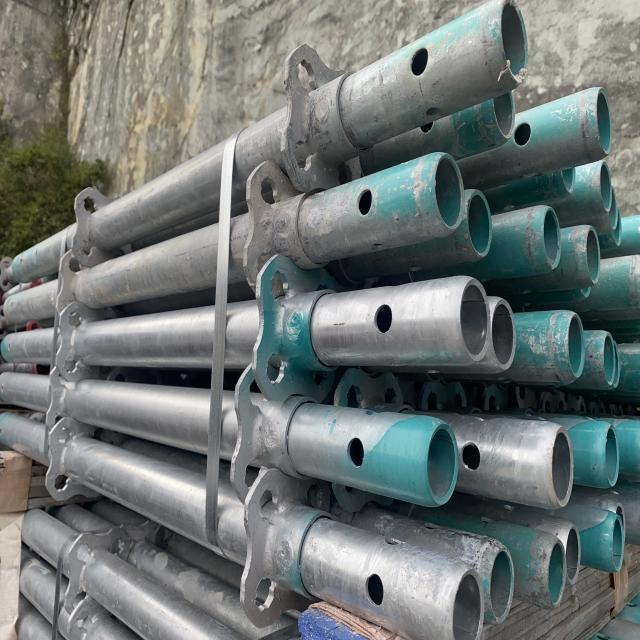pipe: (457, 274, 492, 362), (446, 564, 486, 640), (424, 420, 459, 506), (430, 152, 466, 232), (498, 0, 530, 86), (486, 542, 516, 626), (549, 424, 576, 509), (490, 298, 518, 372), (465, 186, 493, 258), (489, 76, 517, 142), (565, 310, 588, 382), (592, 86, 614, 157), (545, 538, 567, 609), (540, 205, 563, 272), (562, 523, 584, 589), (602, 420, 622, 490), (582, 222, 602, 288), (598, 328, 617, 389), (608, 514, 625, 572), (608, 338, 624, 396), (597, 158, 613, 215), (611, 498, 628, 548), (602, 186, 619, 230), (556, 162, 576, 196), (609, 204, 623, 248)
